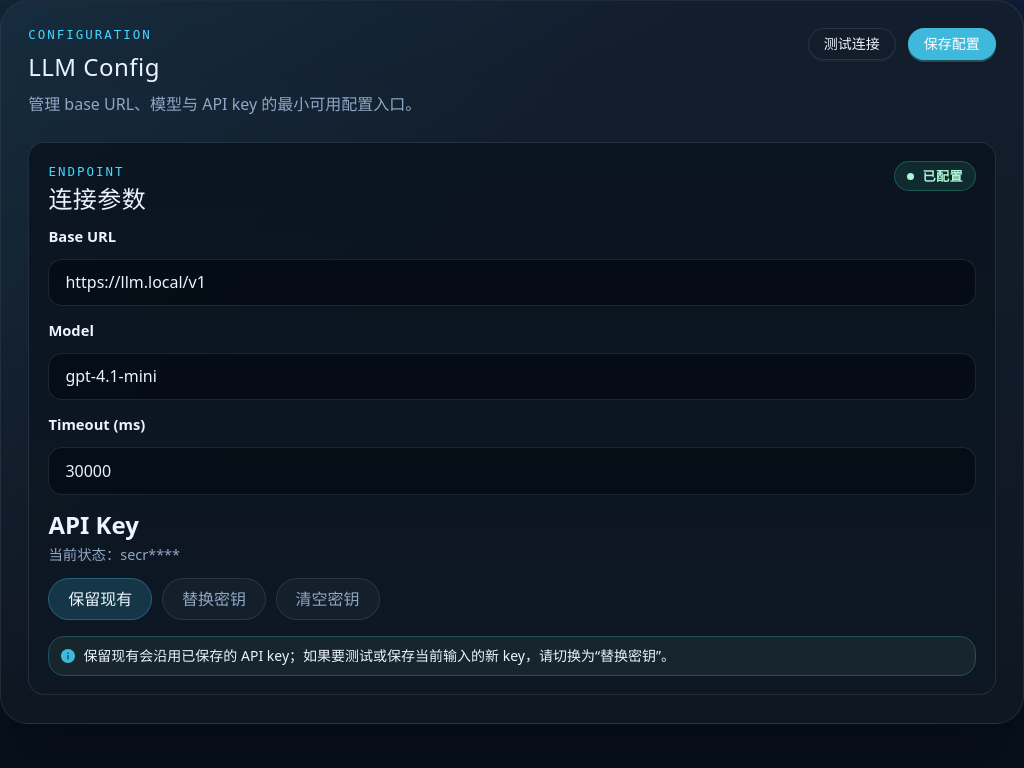
Test: llm config page blocks save when replace mode has empty api key
Click the text "替换密钥" at (214,599), box [182,590,246,608]
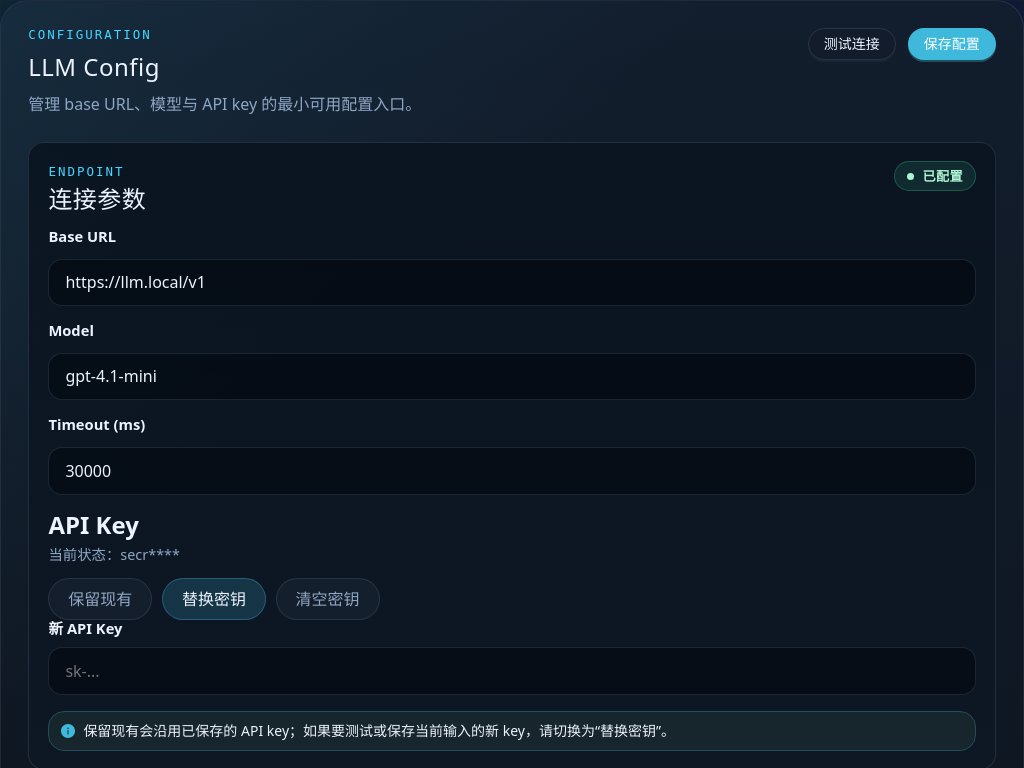
Click the button "保存配置" at (952,44), box [908,28,996,60]
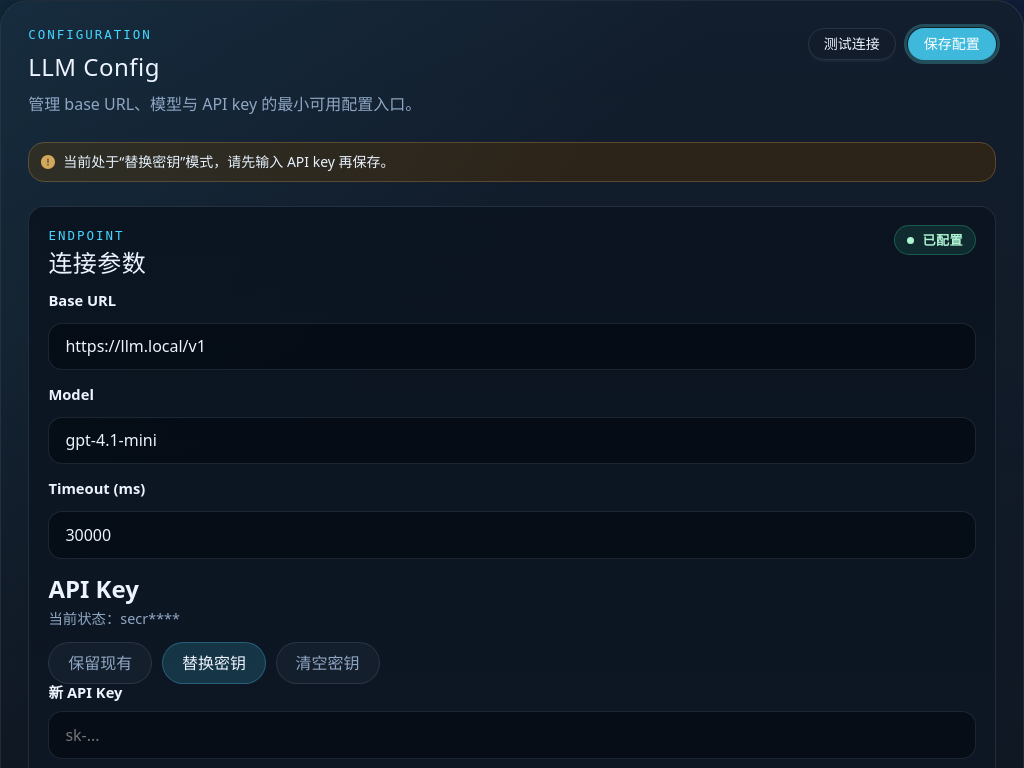
Result: the text "当前处于“替换密钥”模式，请先输入 API key 再保存。" is shown at [63,152,395,171]
